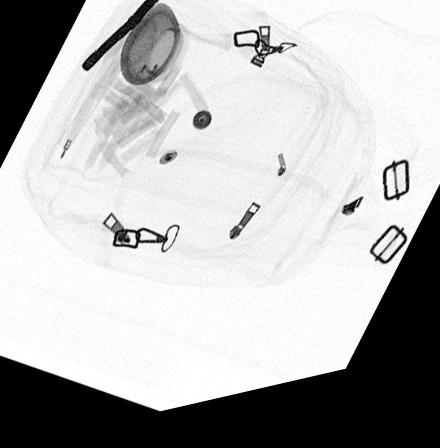Gun: (78, 0, 161, 75)
